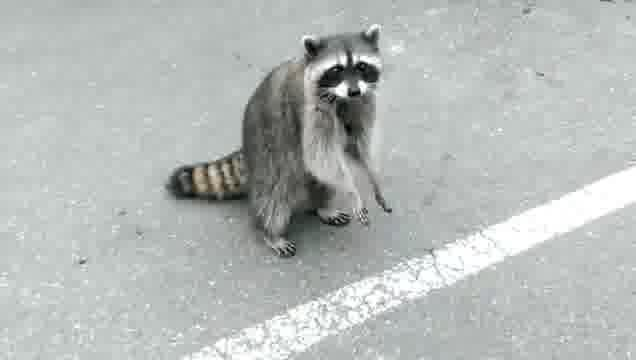raccoon: (166, 21, 394, 260)
